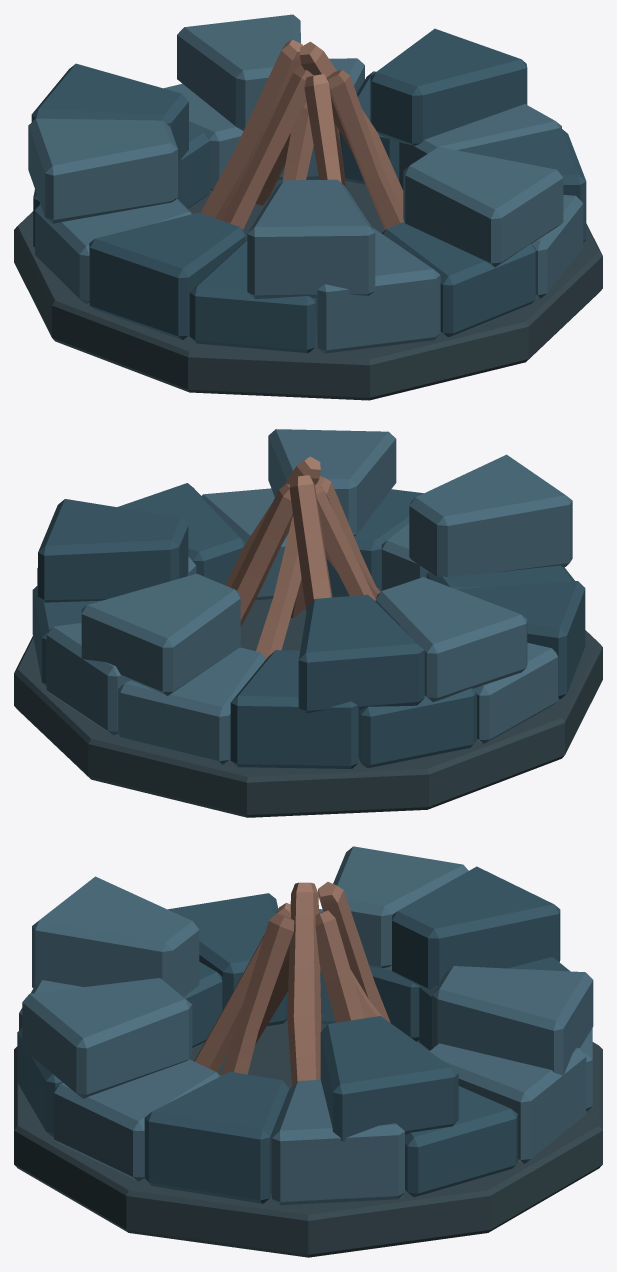
The model's file is bonfire_a003.glb.
3 views of the same model, one above another, from view 1: azimuth 30°, elevation 25°; view 2: azimuth 150°, elevation 25°; view 3: azimuth 270°, elevation 25° (orthographic). The views are drawn at different scales.
Visible parts, largest first — view 1: bonfire_a003; view 2: bonfire_a003; view 3: bonfire_a003.
Part boxes in pixels (x1=…): bonfire_a003: x1=14, y1=14, x2=602, y2=400; bonfire_a003: x1=14, y1=429, x2=602, y2=817; bonfire_a003: x1=14, y1=846, x2=602, y2=1257.
Size of the model in its own units: 1.28 by 0.5652 by 1.22.
Materials: 1 (1 with a texture image).
